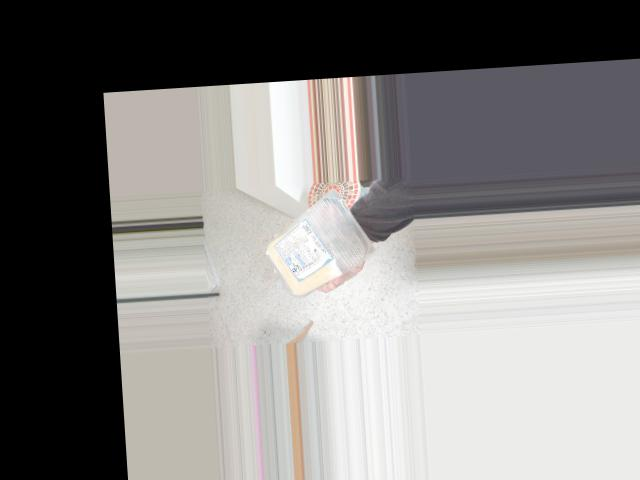cheese: (259, 197, 366, 292)
